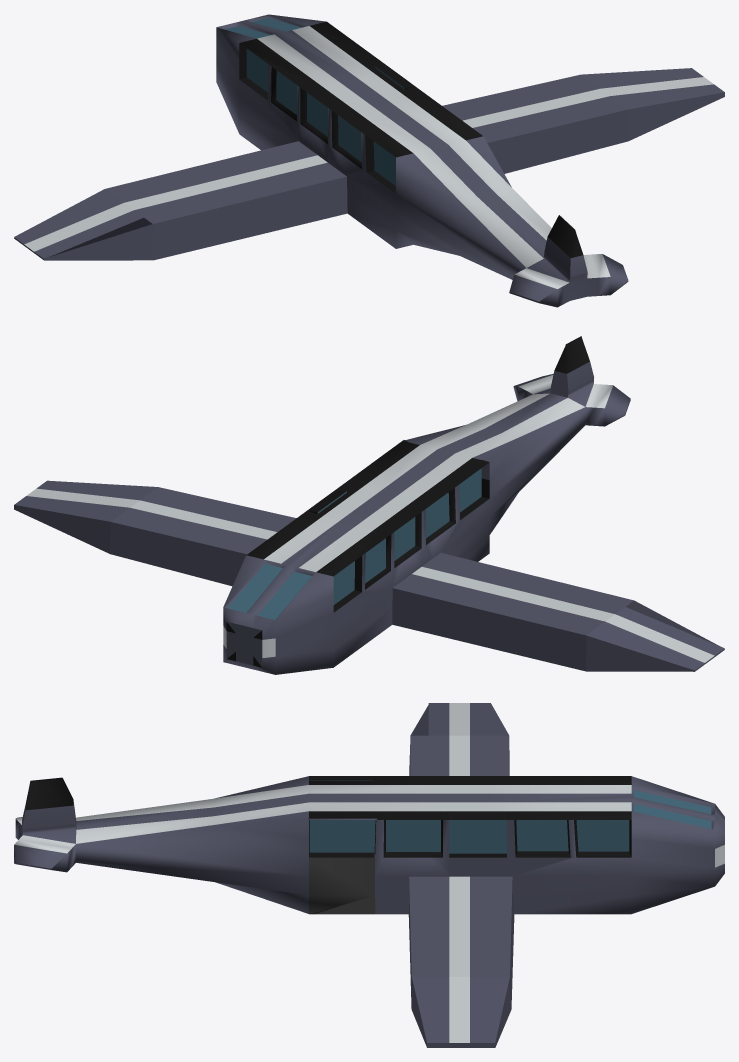
3 renders of one model, top to bottom at view 1: azimuth 30°, elevation 25°; view 2: azimuth 150°, elevation 25°; view 3: azimuth 270°, elevation 25°, orthographic. The views are drawn at different scales.
Visible parts, largest first — view 1: Cube; view 2: Cube; view 3: Cube.
Boxes of the visible parts, x1=… form: Cube: x1=14, y1=14, x2=724, y2=307; Cube: x1=14, y1=336, x2=724, y2=674; Cube: x1=14, y1=703, x2=724, y2=1047.
Bounding box in the file's own units: 1555 × 243 × 1368.
